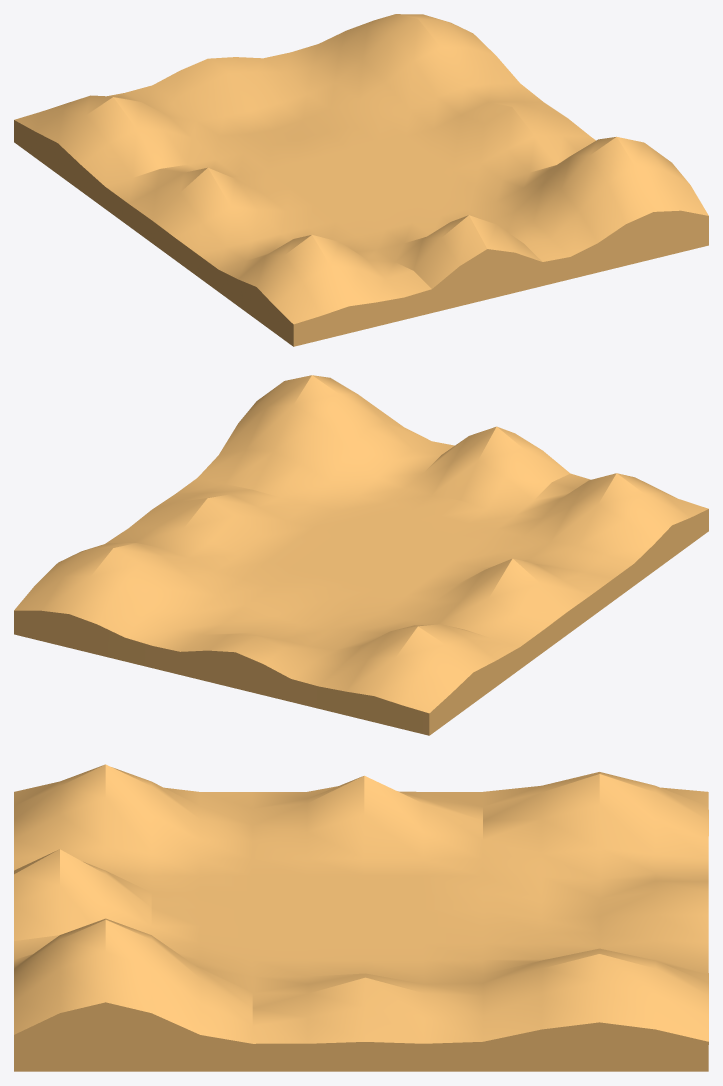
The picture shows the model from 3 angles, top to bottom: view 1: azimuth 30°, elevation 25°; view 2: azimuth 150°, elevation 25°; view 3: azimuth 270°, elevation 25°; orthographic projection. The views are drawn at different scales.
Visible parts, largest first — view 1: base; view 2: base; view 3: base.
Boxes of the visible parts, x1,y1,x2,y2 form: base: (14,14,708,346); base: (14,375,708,735); base: (14,764,708,1071).
Size of the model in its own units: 8360 by 2054 by 9747.
